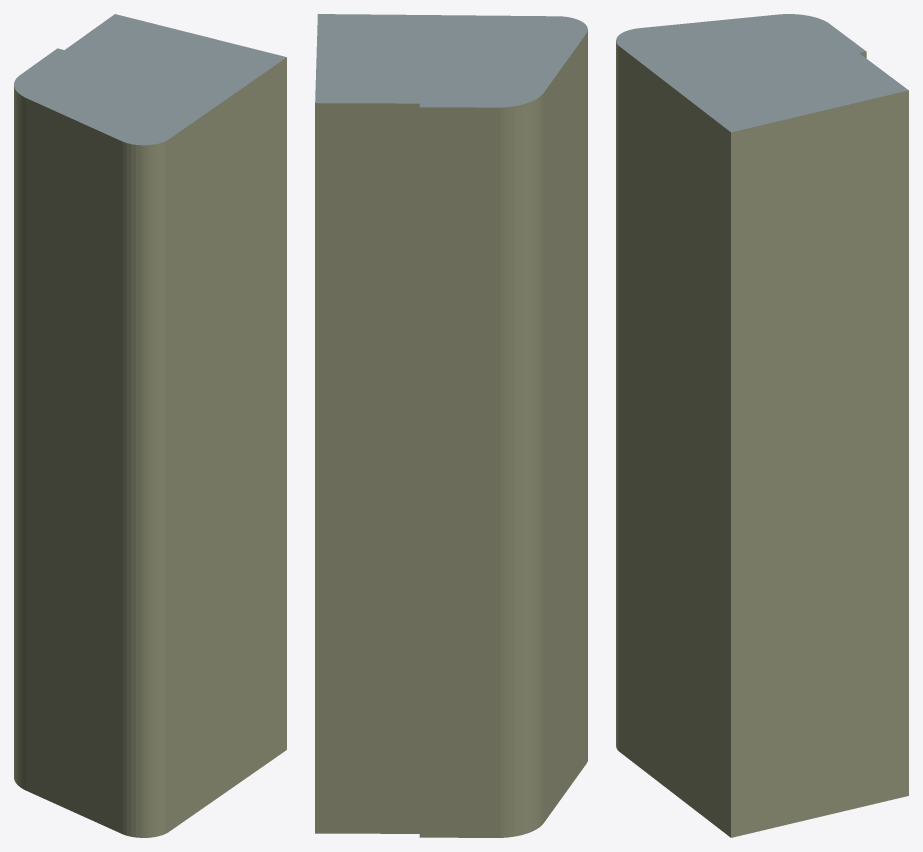
Rendered from nyc-1085682-0.glb.
3 renders of one model, left to right at view 1: azimuth 30°, elevation 25°; view 2: azimuth 150°, elevation 25°; view 3: azimuth 270°, elevation 25°, orthographic. The views are drawn at different scales.
Parts seen in each view (by area): view 1: nyc-1085682-0; view 2: nyc-1085682-0; view 3: nyc-1085682-0.
Part boxes in pixels (box(x1,y1,x2,y2)): nyc-1085682-0: box(14, 14, 286, 837); nyc-1085682-0: box(315, 14, 587, 837); nyc-1085682-0: box(616, 14, 908, 837).
Size of the model in its own units: 80.9 by 225 by 84.48.
